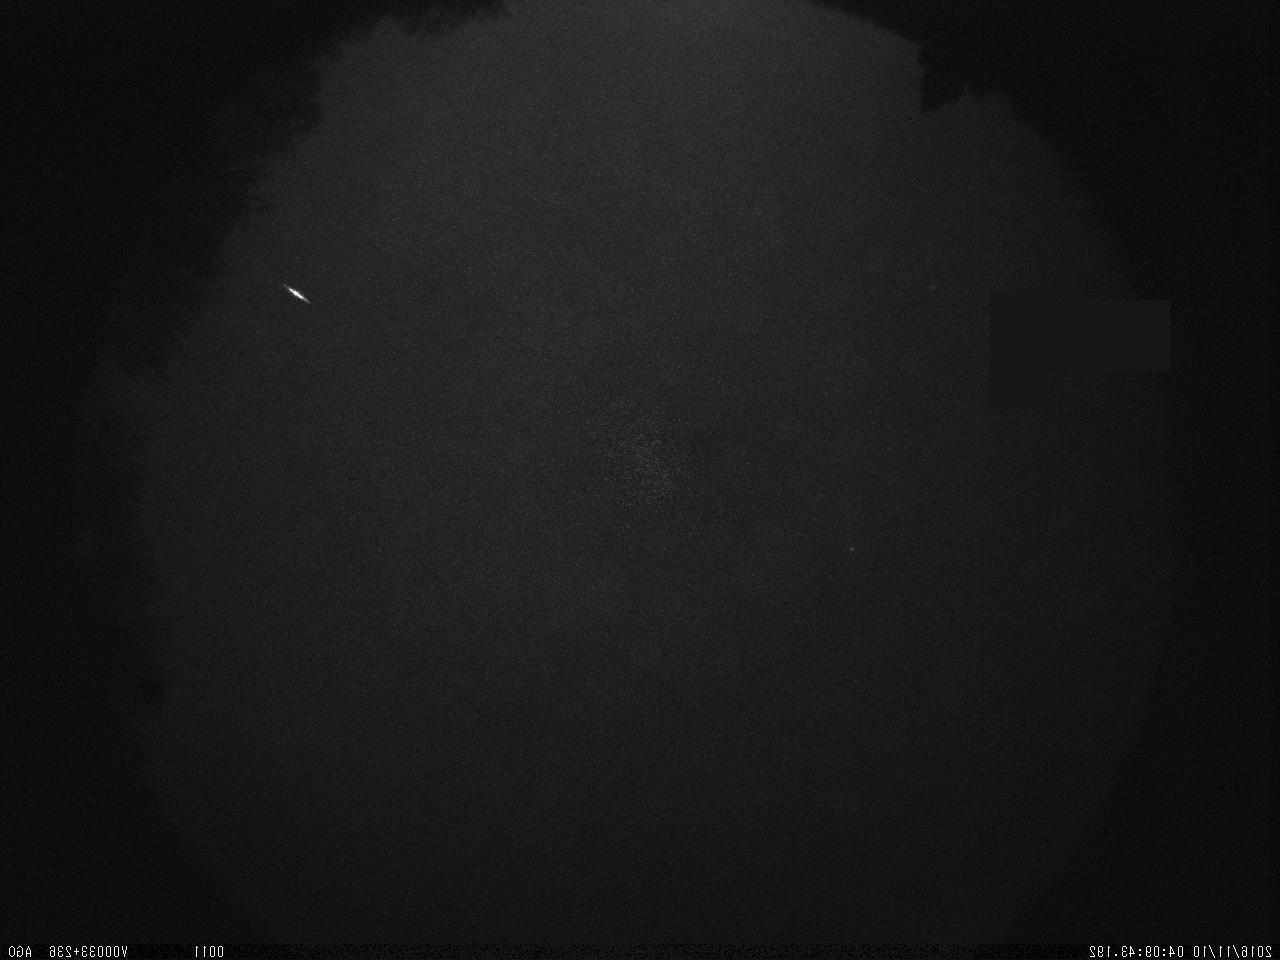meteor: (273, 275, 316, 313)
